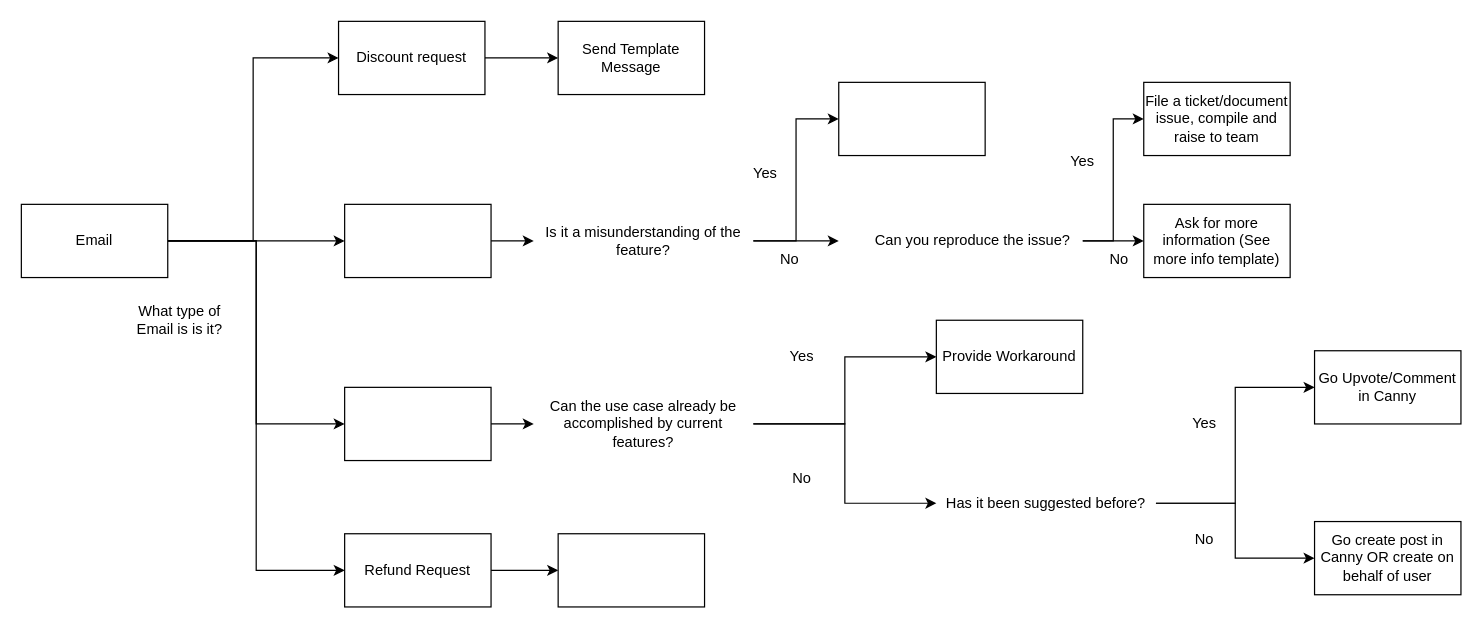
Image size: 1482x628. Some labels were removed from this diagram. Here are the shapes that lost their labels. From the top down, the centre of each, then its label:
At point (911, 118): "Provide Clarification".
At point (417, 240): "Issue".
At point (417, 423): "Feedback".
At point (631, 570): "Hand off to team member who has Stripe Access".
